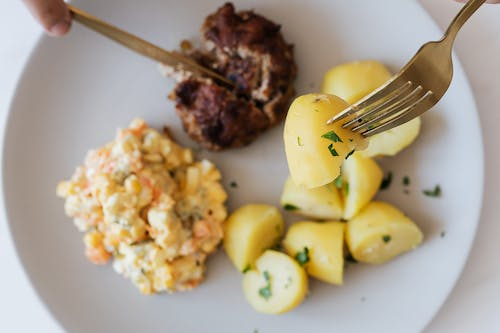knife: (64, 3, 231, 86)
